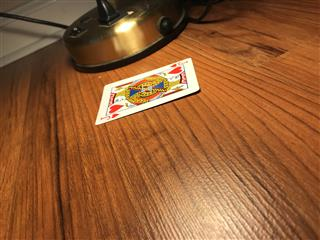JackOfHearts: (94, 56, 200, 125)
